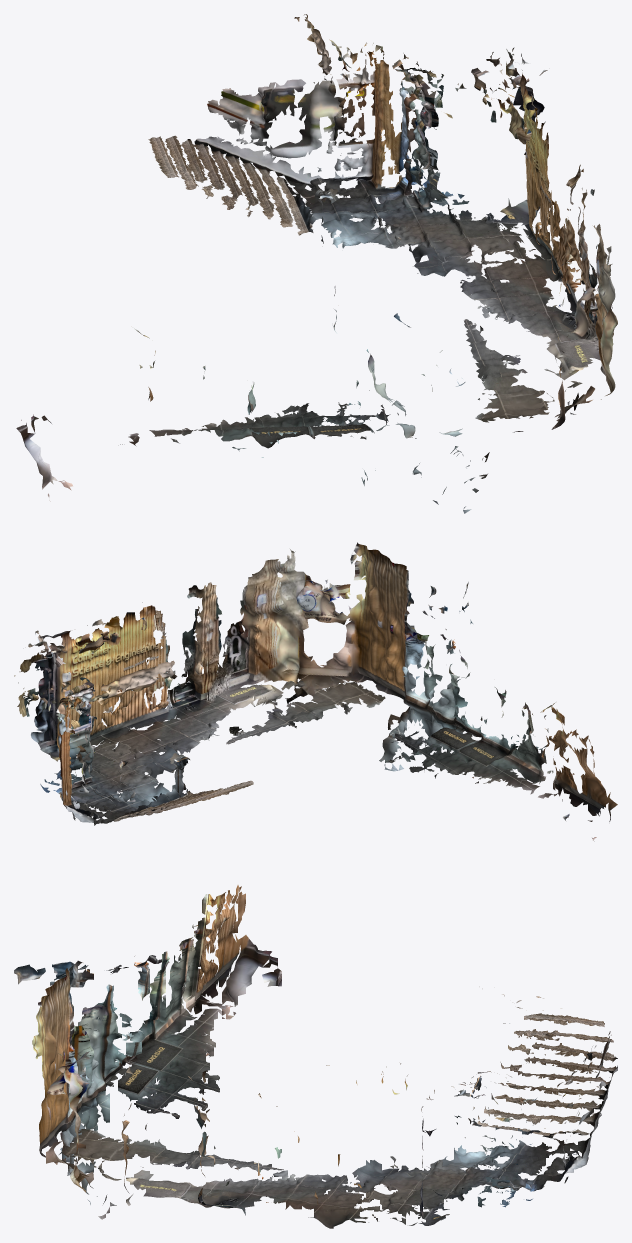
File: 137393-2nd_Floor_Corridor-tex.glb
3 views of the same model, one above another, from view 1: azimuth 30°, elevation 25°; view 2: azimuth 150°, elevation 25°; view 3: azimuth 270°, elevation 25° (orthographic). The views are drawn at different scales.
Parts seen in each view (by area): view 1: Node; view 2: Node; view 3: Node.
Part boxes in pixels (<box>): Node: <box>16,14,617,513</box>; Node: <box>14,542,617,841</box>; Node: <box>14,885,617,1228</box>.
Size of the model in its own units: 10.99 by 4.55 by 9.75.
8 materials, 8 textured.
